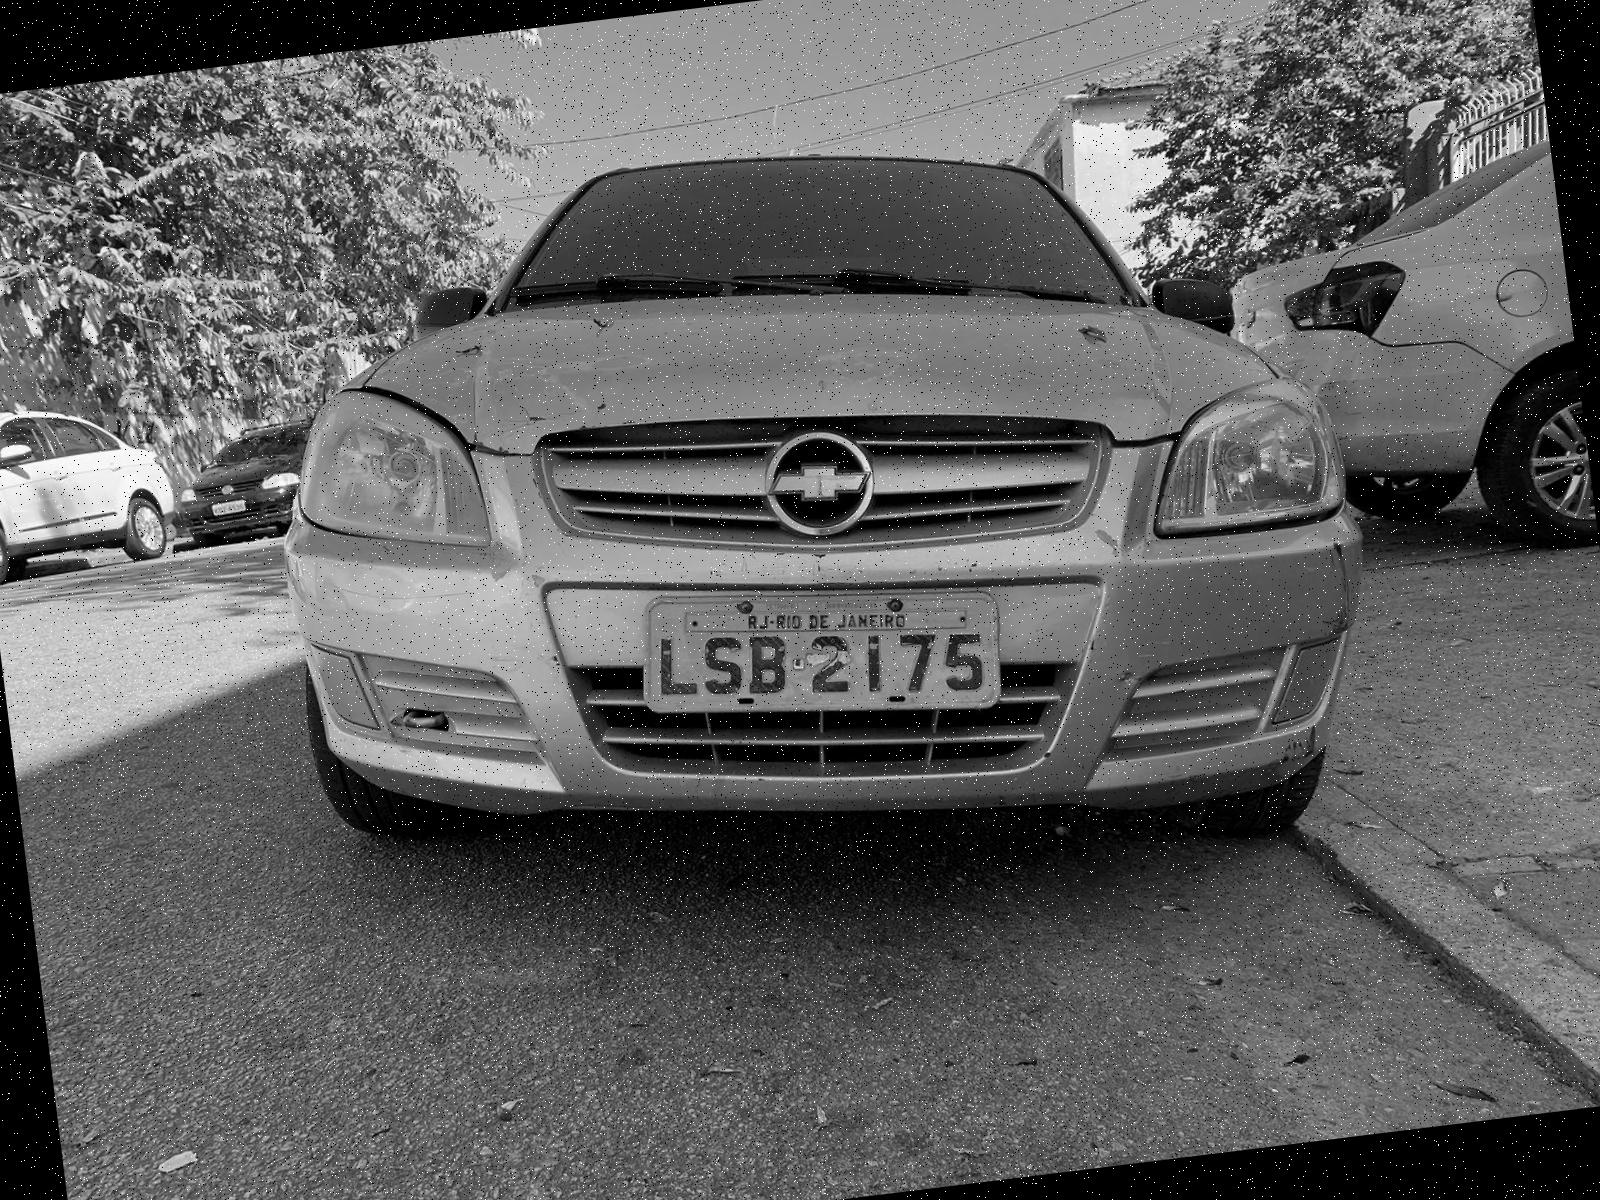placa_mercosul: (645, 594, 999, 711)
